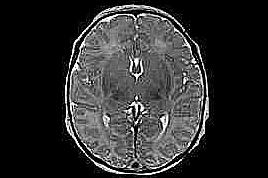Normal_Brain: (52, 8, 227, 175)
